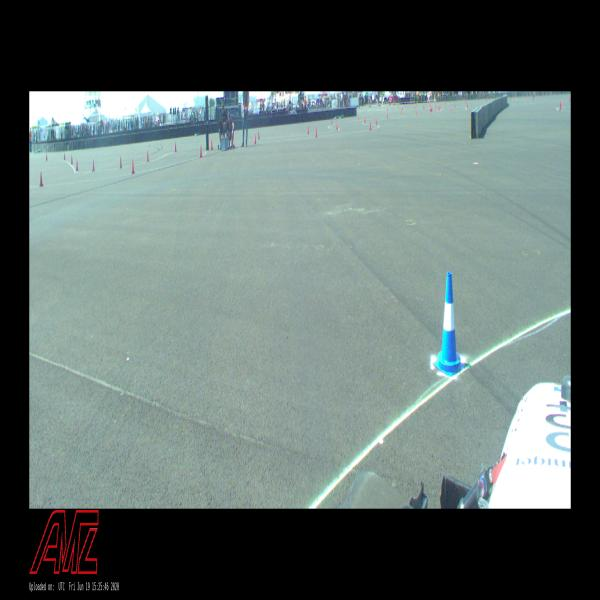blue_cone: (433, 274, 464, 376)
unknown_cone: (40, 172, 43, 186), (92, 160, 95, 171), (76, 160, 79, 170), (132, 160, 134, 174), (120, 156, 122, 168), (200, 145, 202, 157), (147, 151, 149, 161), (210, 139, 212, 149), (315, 127, 317, 137), (174, 143, 176, 152), (369, 121, 371, 130), (258, 131, 260, 140), (336, 121, 338, 130), (307, 126, 309, 134), (71, 156, 73, 164), (375, 118, 377, 126), (64, 153, 66, 160), (450, 106, 452, 112), (46, 154, 48, 160), (364, 117, 366, 123), (467, 104, 469, 109), (255, 134, 256, 144), (560, 103, 561, 109), (387, 113, 388, 119), (570, 96, 570, 102), (332, 119, 332, 125)
